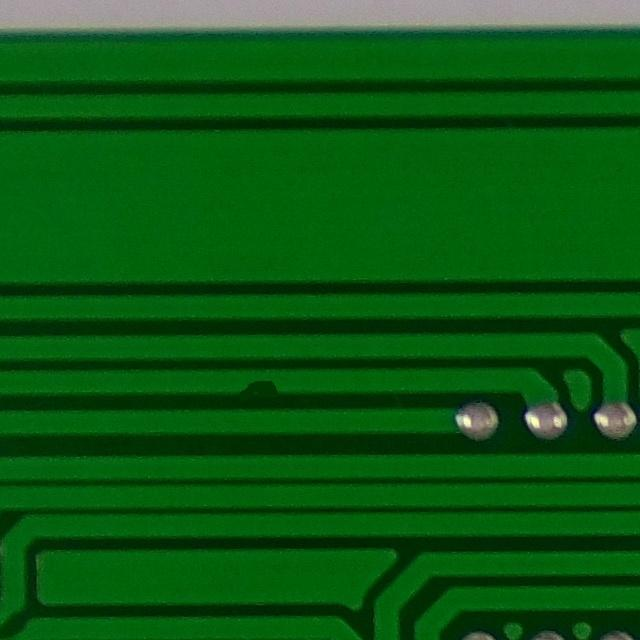mouse_bite: (219, 366, 292, 407)
